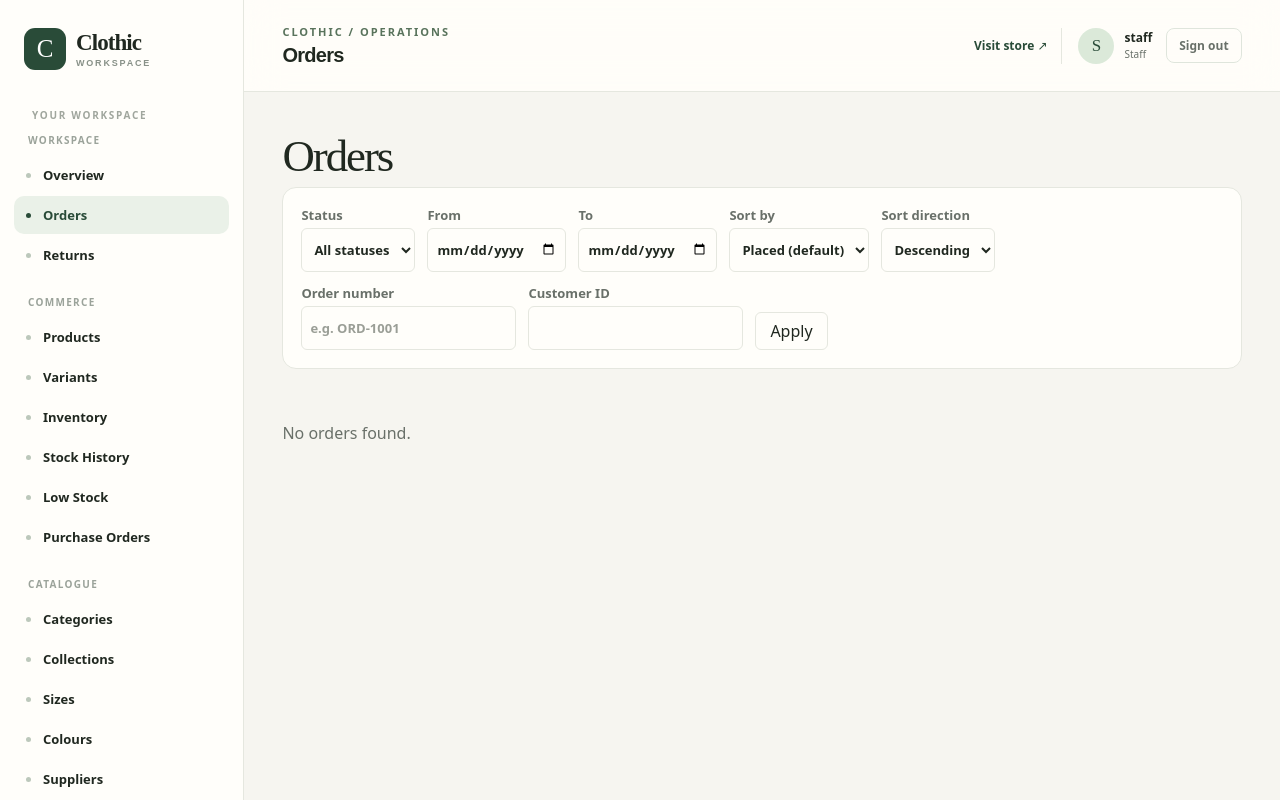
Scenario: application routing › navigates between pages from the sidebar
The image size is (1280, 800).
Step 1. Click the link "Stock History" → (86, 457), box [43,448,129,466]
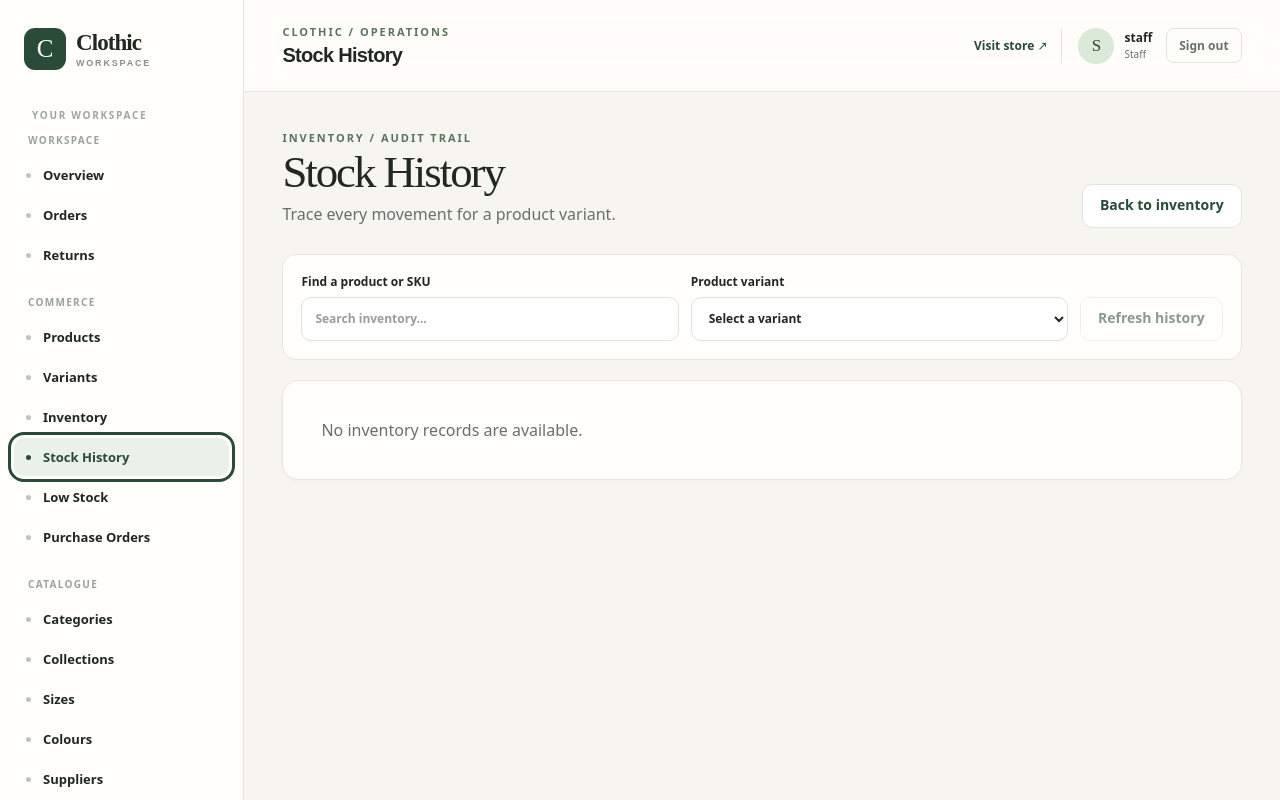
Expected: the heading "Stock History" is shown, [282,147,504,197]
